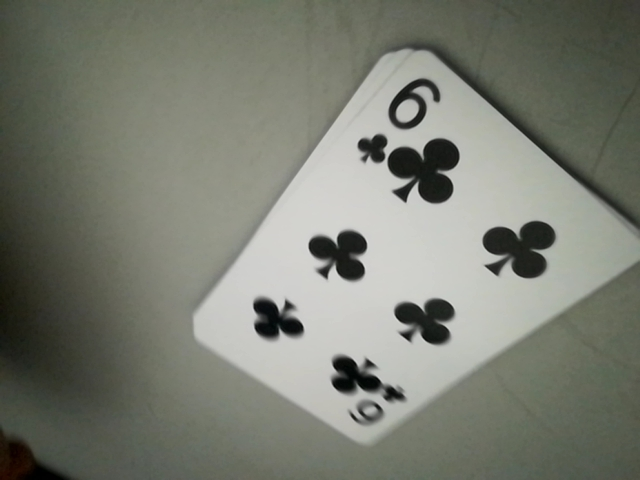mh 6: (352, 60, 453, 175)
